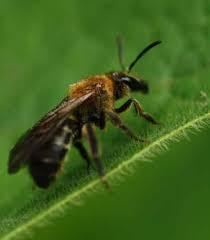Meliponula: (14, 25, 171, 191)
